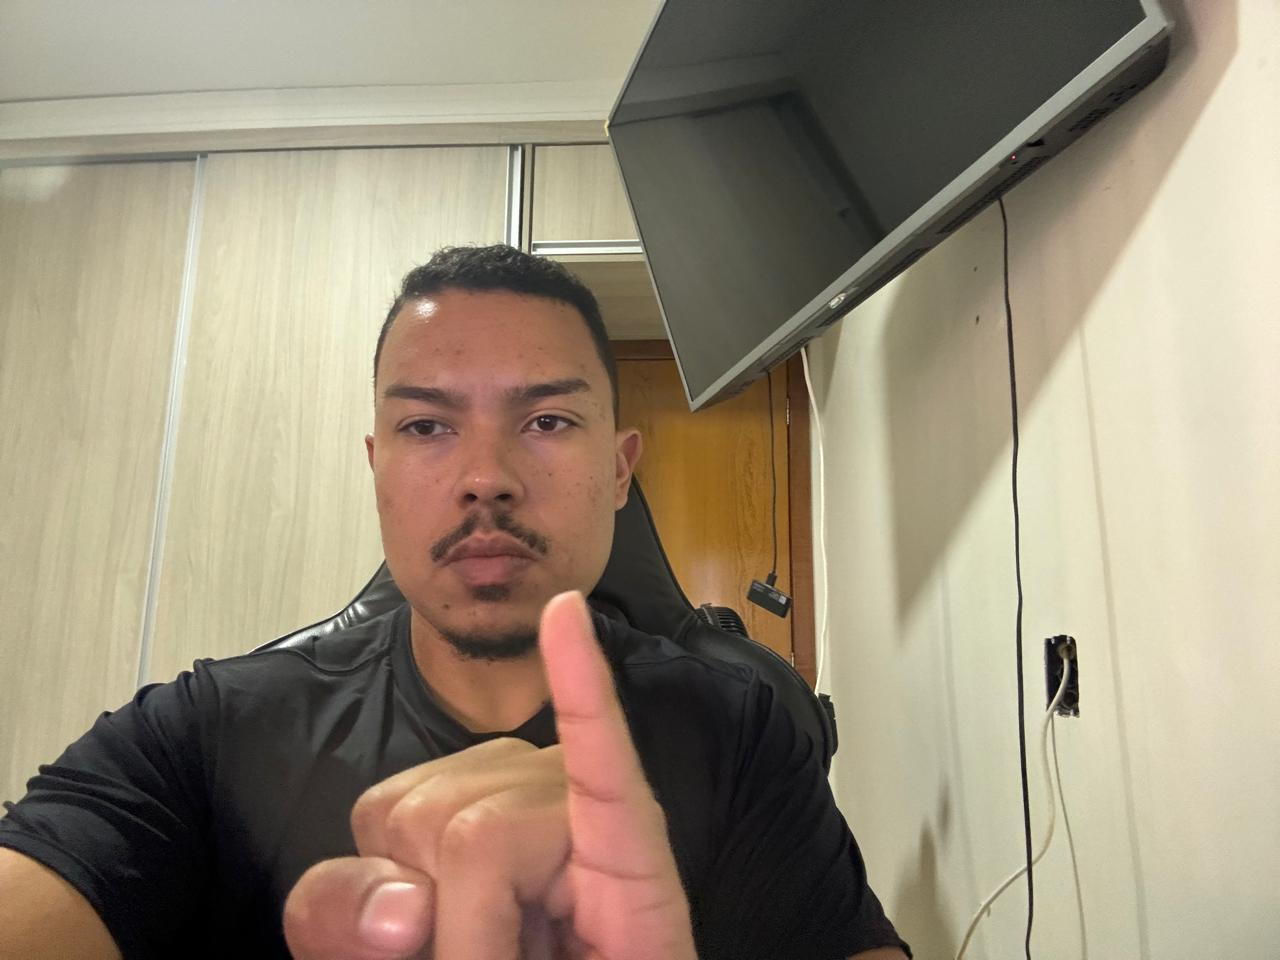i: (264, 577, 708, 960)
